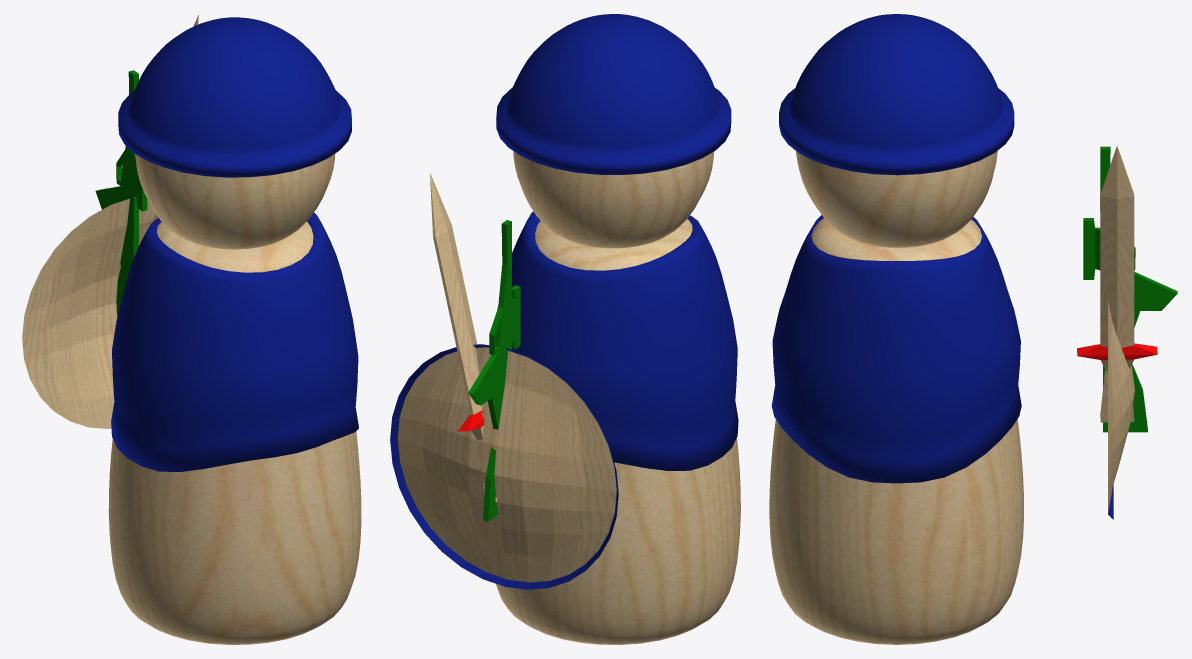
The model's file is unit_ATKDEFRNG.glb.
3 views of the same model, side by side, from view 1: azimuth 30°, elevation 25°; view 2: azimuth 150°, elevation 25°; view 3: azimuth 270°, elevation 25° (orthographic).
Visible parts, largest first — view 1: body.001, vest.001, hat.001, Shield.001, Gun.001; view 2: body.001, Shield.001, vest.001, hat.001, Gun.001, Sword.001; view 3: body.001, vest.001, hat.001, Sword.001, Gun.001, Shield.001.
Part boxes in pixels (left/top/right/bottom): body.001: left=108, top=154, right=361, bottom=644; vest.001: left=111, top=212, right=358, bottom=471; hat.001: left=118, top=17, right=351, bottom=177; Shield.001: left=22, top=198, right=155, bottom=428; Gun.001: left=95, top=70, right=147, bottom=316; body.001: left=496, top=151, right=740, bottom=644; Shield.001: left=390, top=344, right=618, bottom=589; vest.001: left=497, top=211, right=738, bottom=470; hat.001: left=496, top=14, right=731, bottom=174; Gun.001: left=468, top=220, right=520, bottom=521; Sword.001: left=430, top=173, right=497, bottom=501; body.001: left=769, top=151, right=1023, bottom=644; vest.001: left=771, top=215, right=1021, bottom=483; hat.001: left=779, top=14, right=1014, bottom=175; Sword.001: left=1077, top=145, right=1157, bottom=422; Gun.001: left=1083, top=146, right=1177, bottom=432; Shield.001: left=1108, top=301, right=1134, bottom=519.
Bounding box in the file's own units: 1.04 × 2.52 × 1.61.
Materials: 4 (1 with a texture image).
